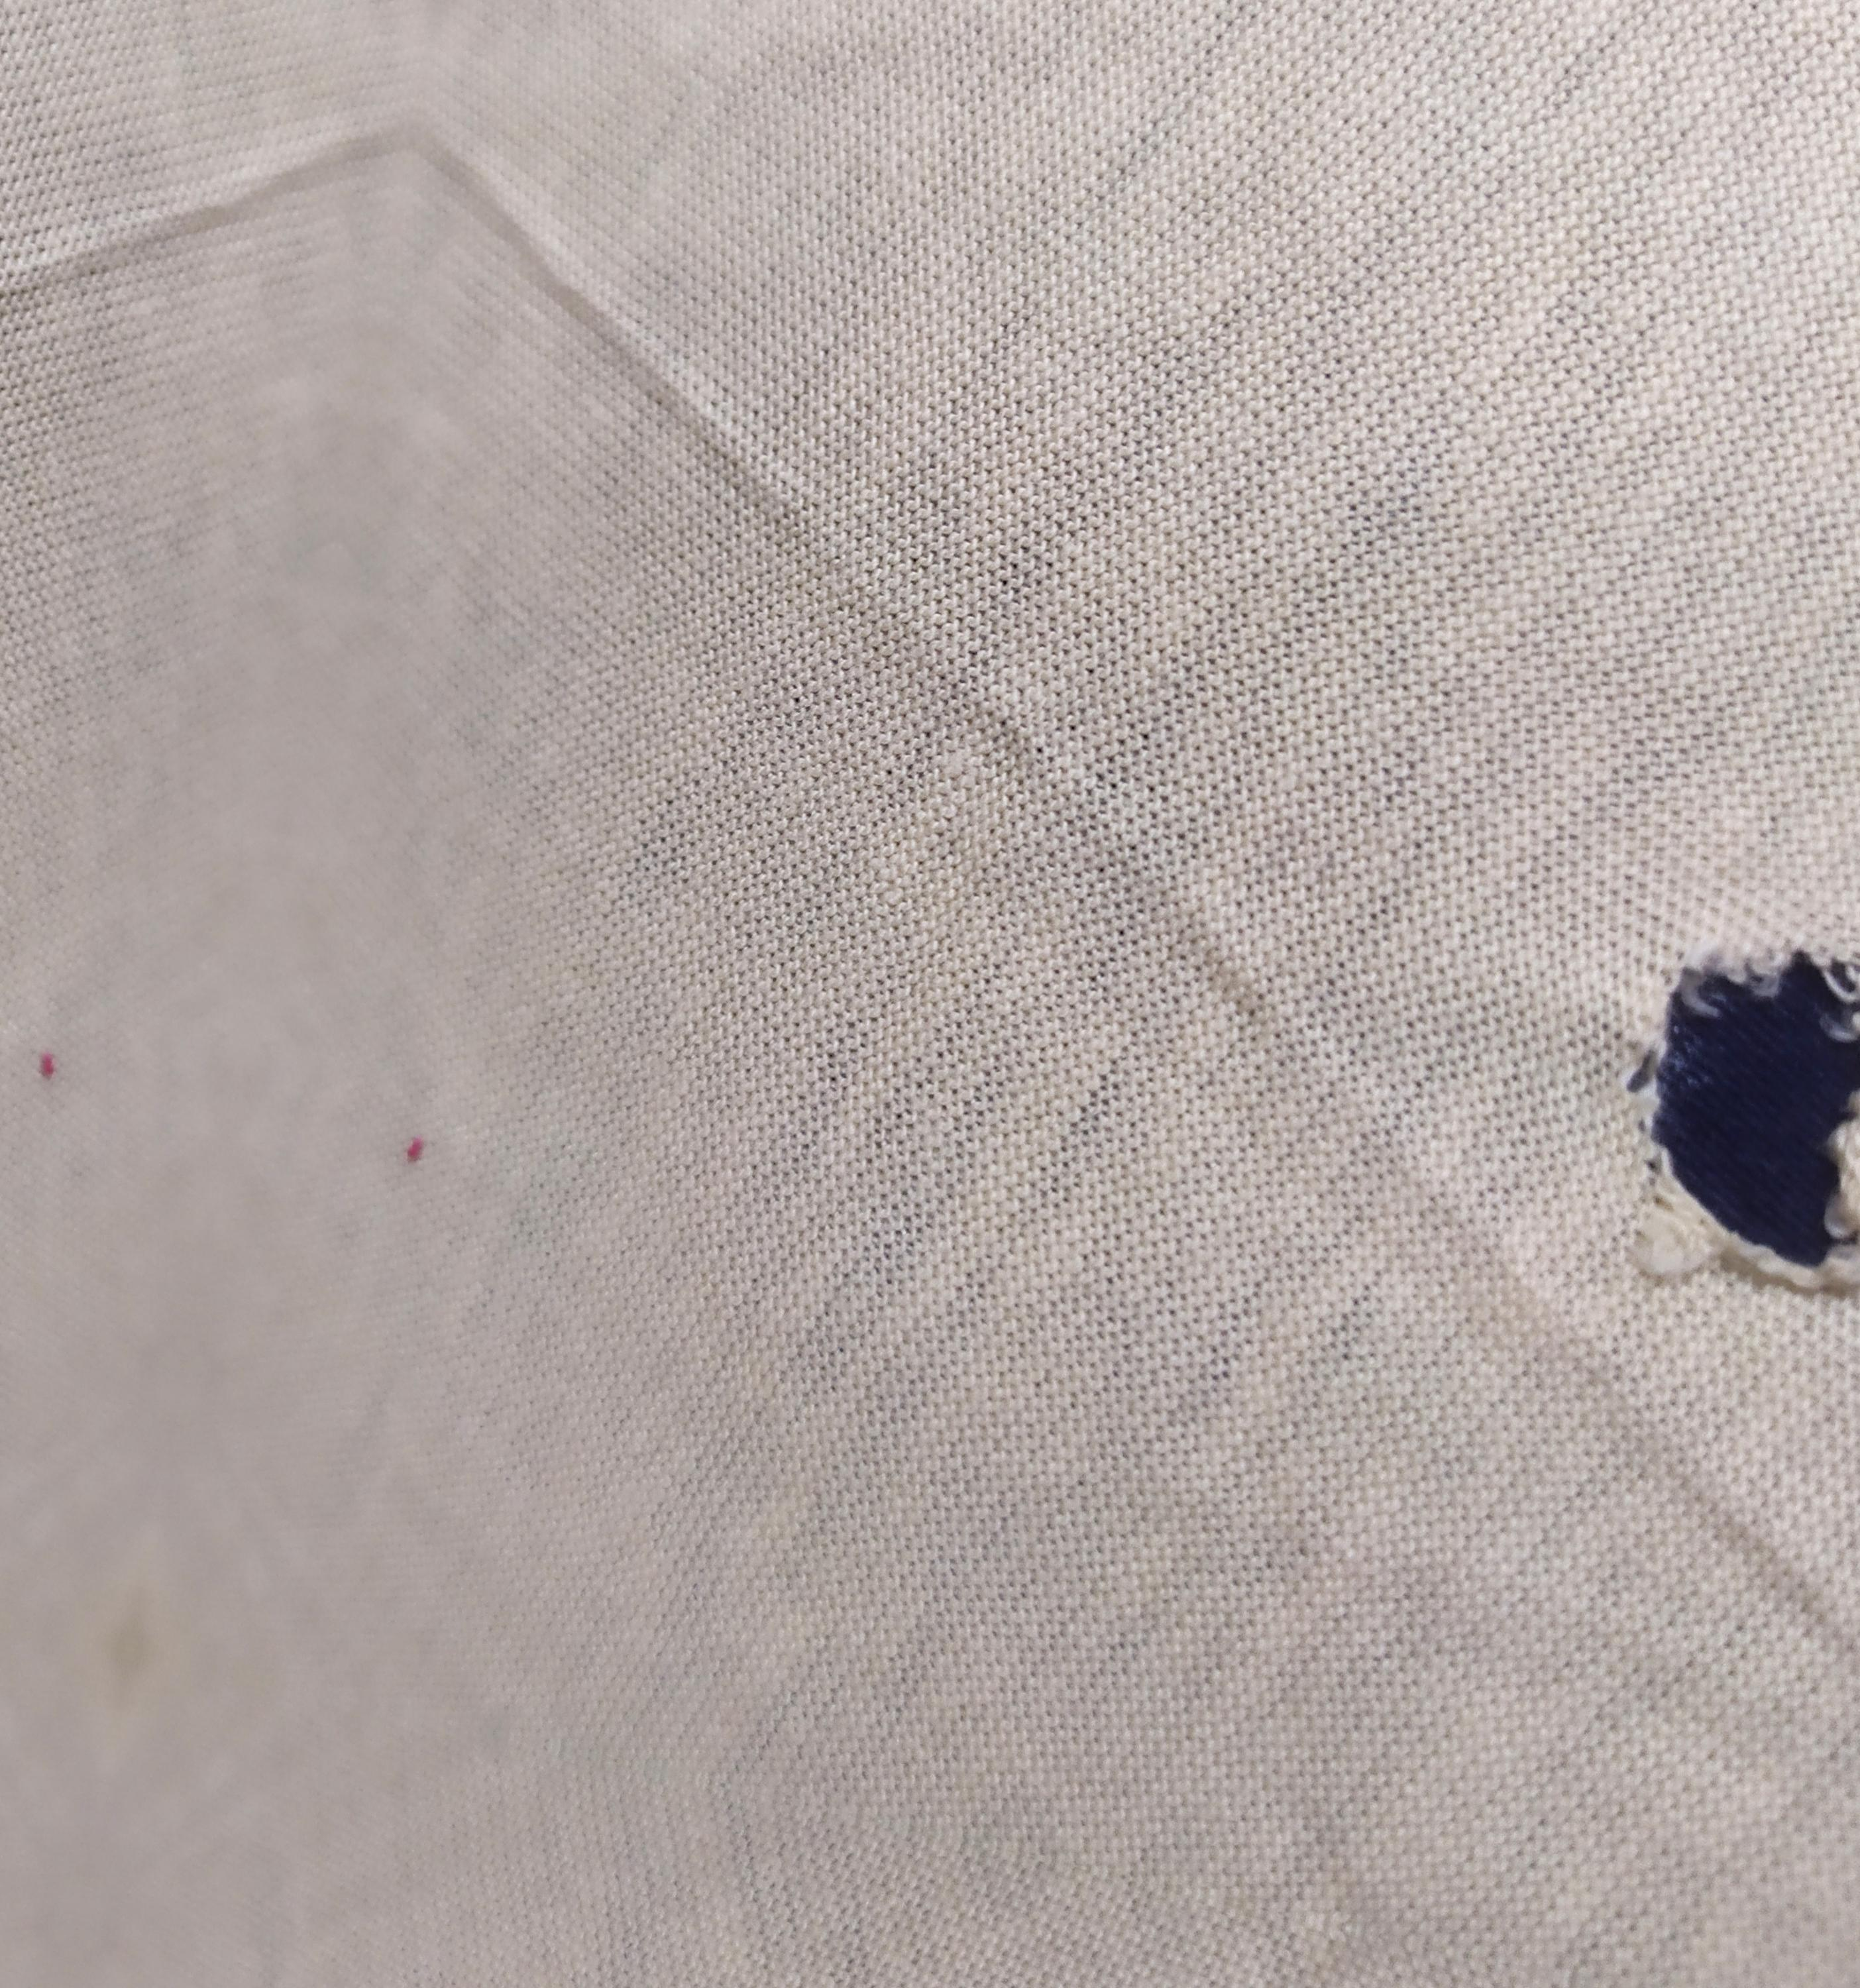hole: (1596, 899, 1860, 1322)
